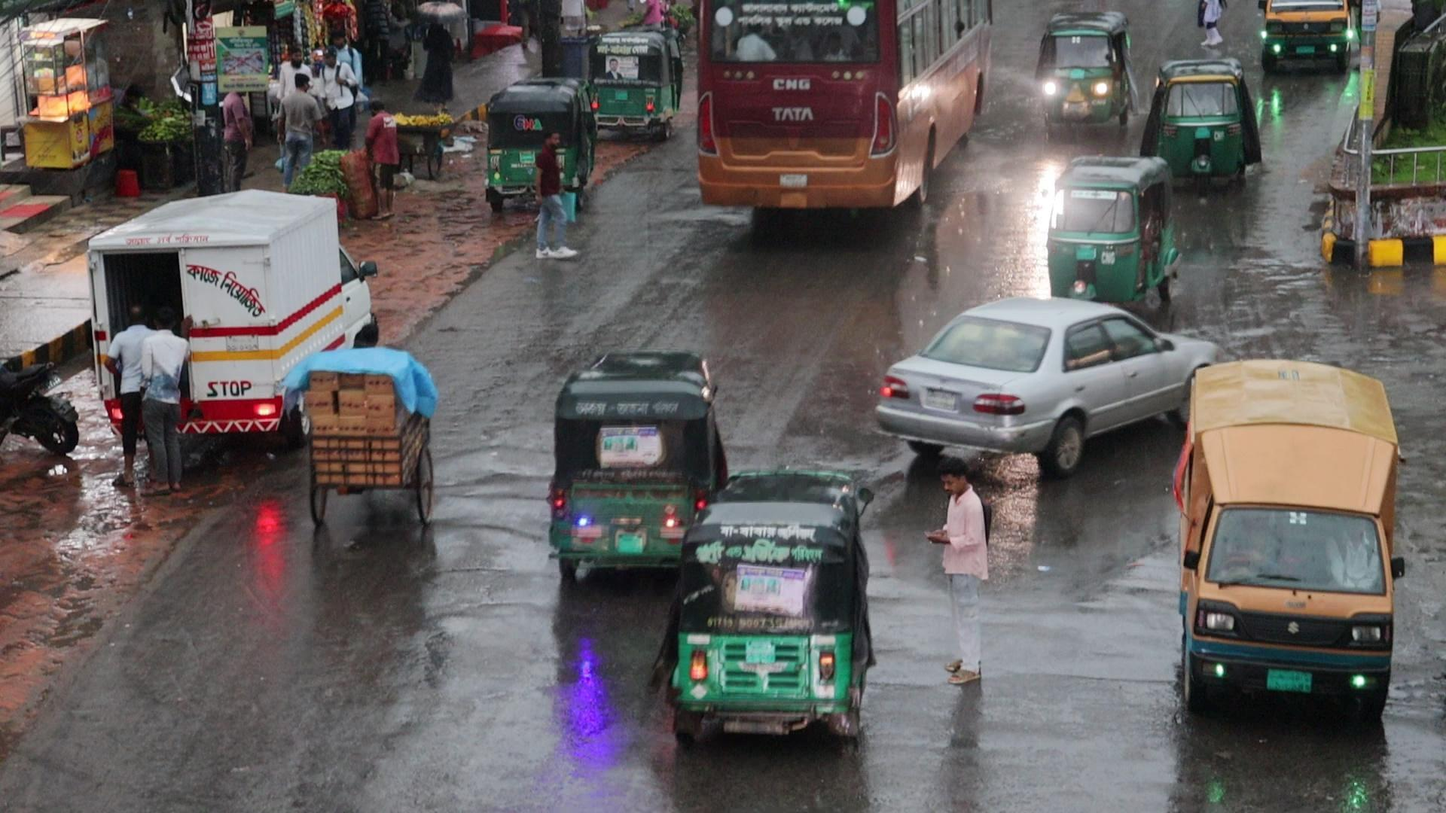Bus: (693, 0, 995, 213)
Car: (871, 291, 1179, 468)
Truck: (1182, 354, 1408, 721)
